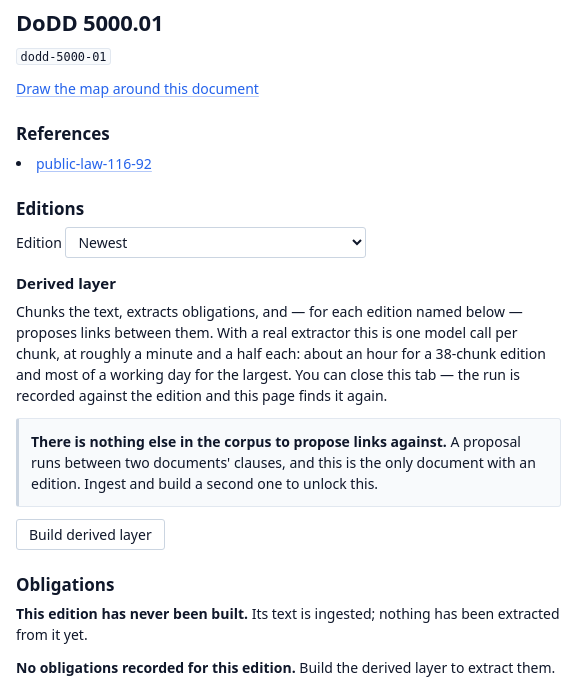
Test: DocumentDetail — building the derived layer › says a build is still running on another edition rather than going silent
Click the button "Build derived layer" at (90, 534), box x1=16 y1=519 x2=165 y2=550
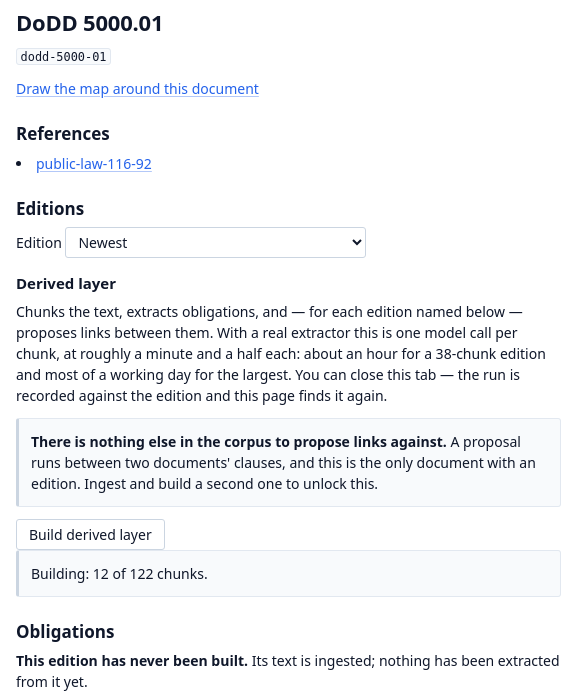
Expected: the text "Building: 12 of 122 chunks." is shown, x1=16 y1=550 x2=560 y2=597
Note: Look at the older edition while it runs.
Select "2018-08-31 (dodd-5000-01@2018-08-31)" in the dropdown labelled "Edition" at (216, 242), box x1=65 y1=227 x2=366 y2=258
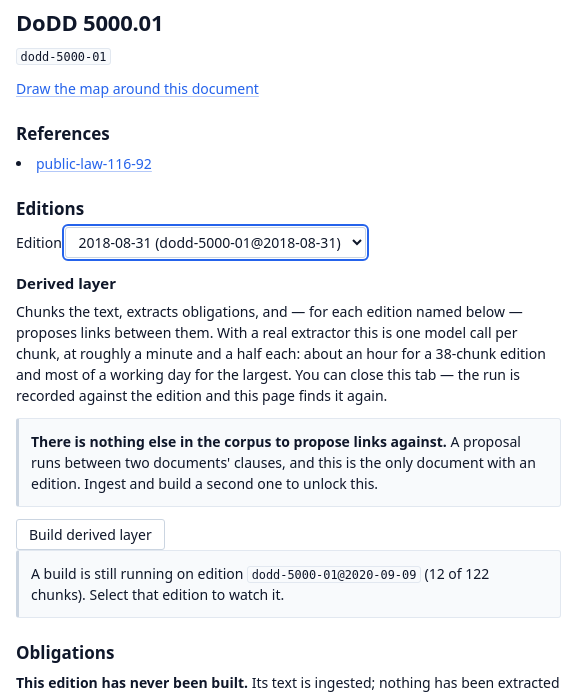
Expected: the text "still running on edition" shows "dodd-5000-01@2020-09-09", x1=252 y1=568 x2=416 y2=582
Expected: the text "Building: 12 of 122" is gone
Note: Coming back brings it into view again — the state was hidden, not lost.
Select "2020-09-09 (dodd-5000-01@2020-09-09)" in the dropdown labelled "Edition" at (216, 242), box x1=65 y1=227 x2=366 y2=258
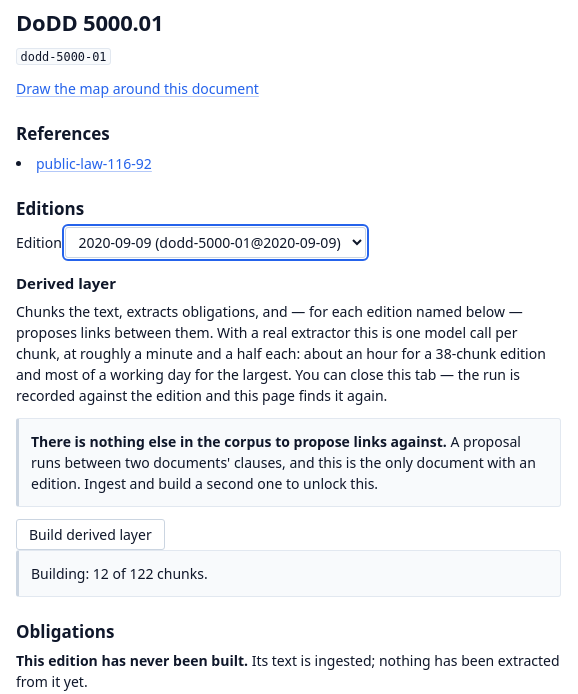
Expected: the text "Building: 12 of 122 chunks." is shown, x1=16 y1=550 x2=560 y2=597
